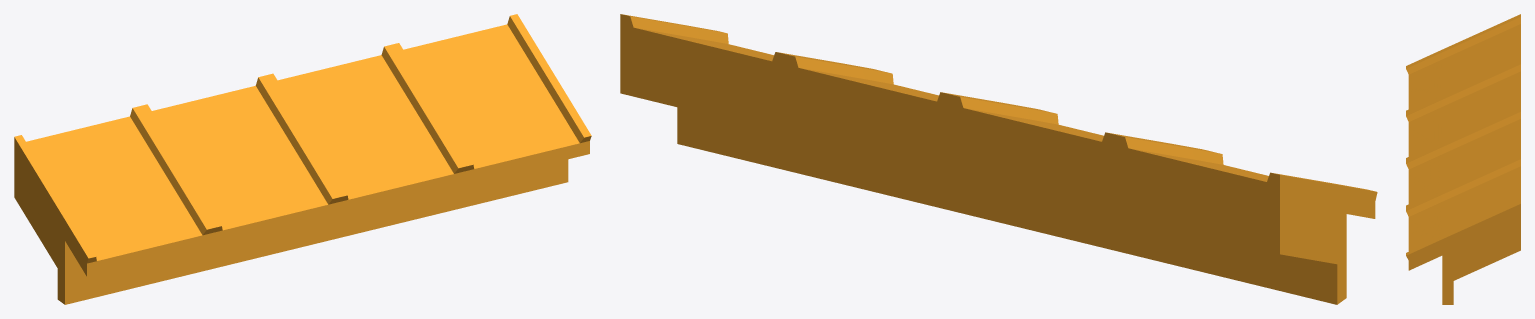
File: SM_Roof_Metal_Moderate_2m_Edge.fbx
The picture shows the model from 3 angles, left to right: view 1: azimuth 30°, elevation 25°; view 2: azimuth 150°, elevation 25°; view 3: azimuth 270°, elevation 25°; orthographic projection. The views are drawn at different scales.
Parts seen in each view (by area): view 1: roof-metal-moderate-2m-edge; view 2: roof-metal-moderate-2m-edge; view 3: roof-metal-moderate-2m-edge.
Part boxes in pixels (bbox=[...]): roof-metal-moderate-2m-edge: bbox=[14, 14, 591, 304]; roof-metal-moderate-2m-edge: bbox=[620, 14, 1377, 304]; roof-metal-moderate-2m-edge: bbox=[1406, 14, 1520, 304].
Bounding box in the file's own units: 2 × 0.4978 × 0.512.
